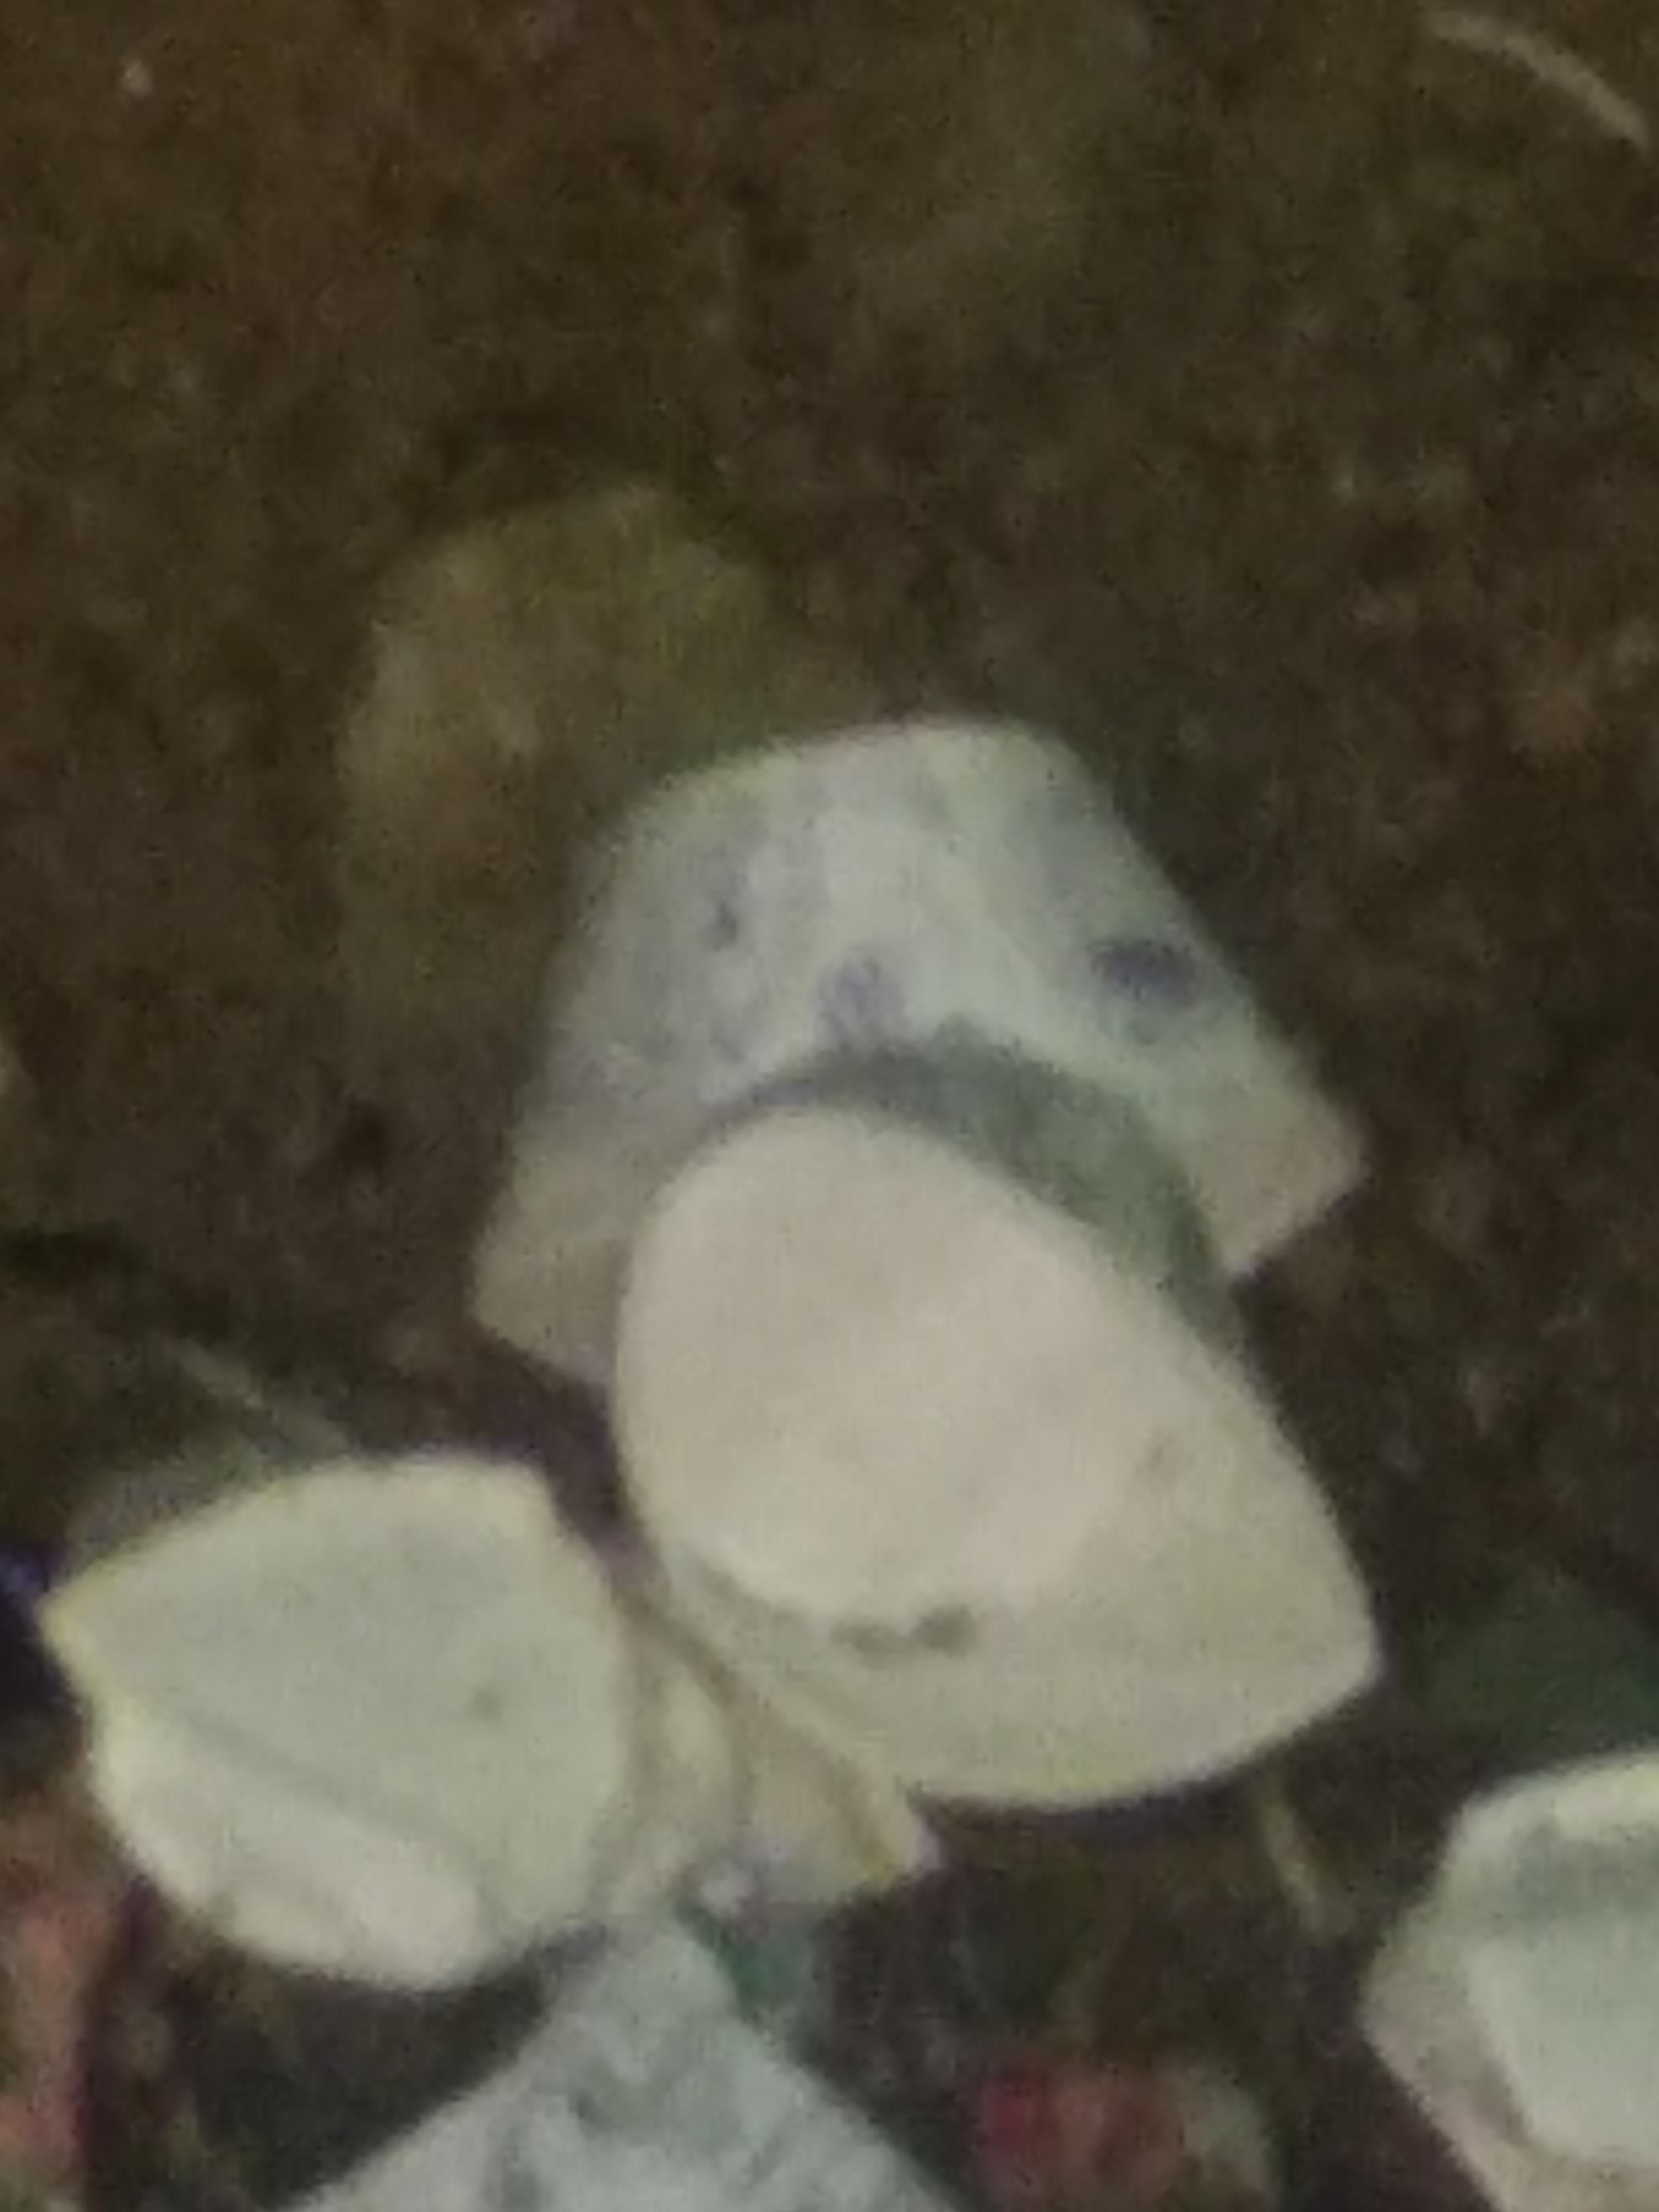trash: (0, 709, 1659, 2212)
